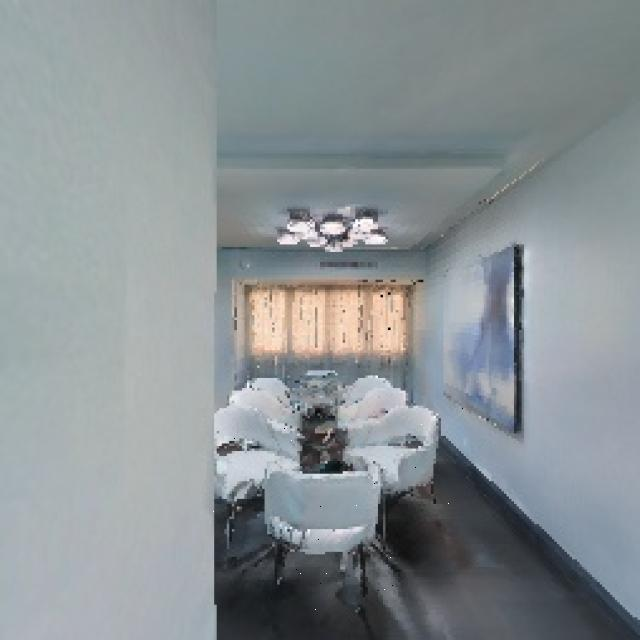chair: (262, 462, 395, 614), (338, 405, 472, 521), (204, 396, 300, 551)
